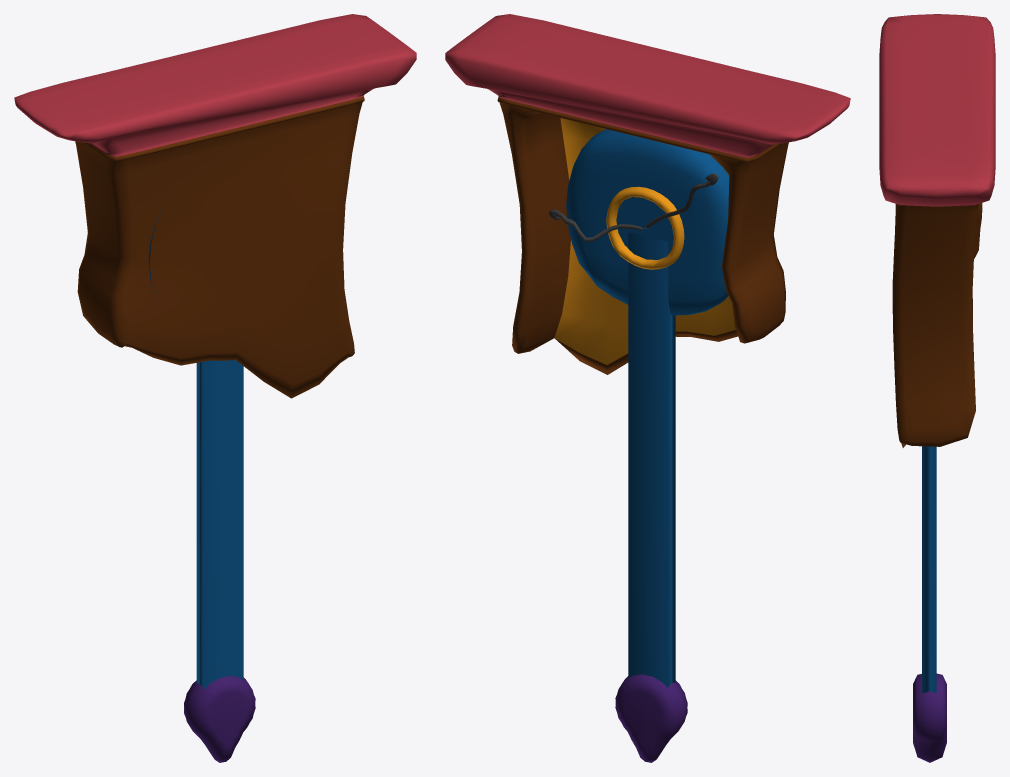
The model's file is geo_snapclock.fbx.
3 views of the same model, side by side, from view 1: azimuth 30°, elevation 25°; view 2: azimuth 150°, elevation 25°; view 3: azimuth 270°, elevation 25° (orthographic). The views are drawn at different scales.
Parts seen in each view (by area): view 1: geo_Clock, geo_Hand; view 2: geo_Clock, geo_Hand; view 3: geo_Clock, geo_Hand.
Boxes of the visible parts, x1=… form: geo_Clock: x1=14, y1=14, x2=416, y2=398; geo_Hand: x1=184, y1=360, x2=255, y2=762; geo_Clock: x1=445, y1=14, x2=850, y2=374; geo_Hand: x1=615, y1=232, x2=687, y2=762; geo_Clock: x1=879, y1=14, x2=995, y2=447; geo_Hand: x1=913, y1=446, x2=946, y2=762.
Size of the model in its own units: 221 by 402 by 63.58.
1 material, 1 textured.
